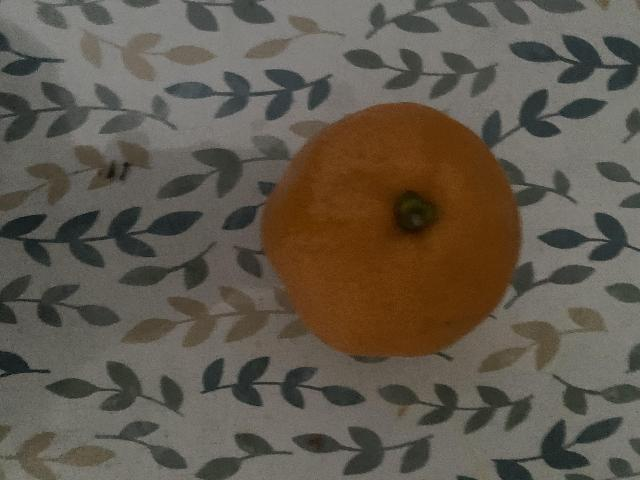Organik: (262, 100, 533, 363)
